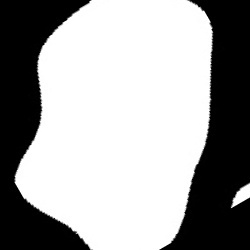spot: (15, 1, 213, 248)
